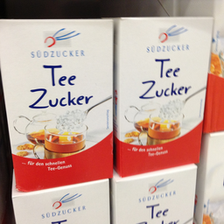tomato_sauce: (1, 19, 113, 193), (115, 14, 213, 178)
